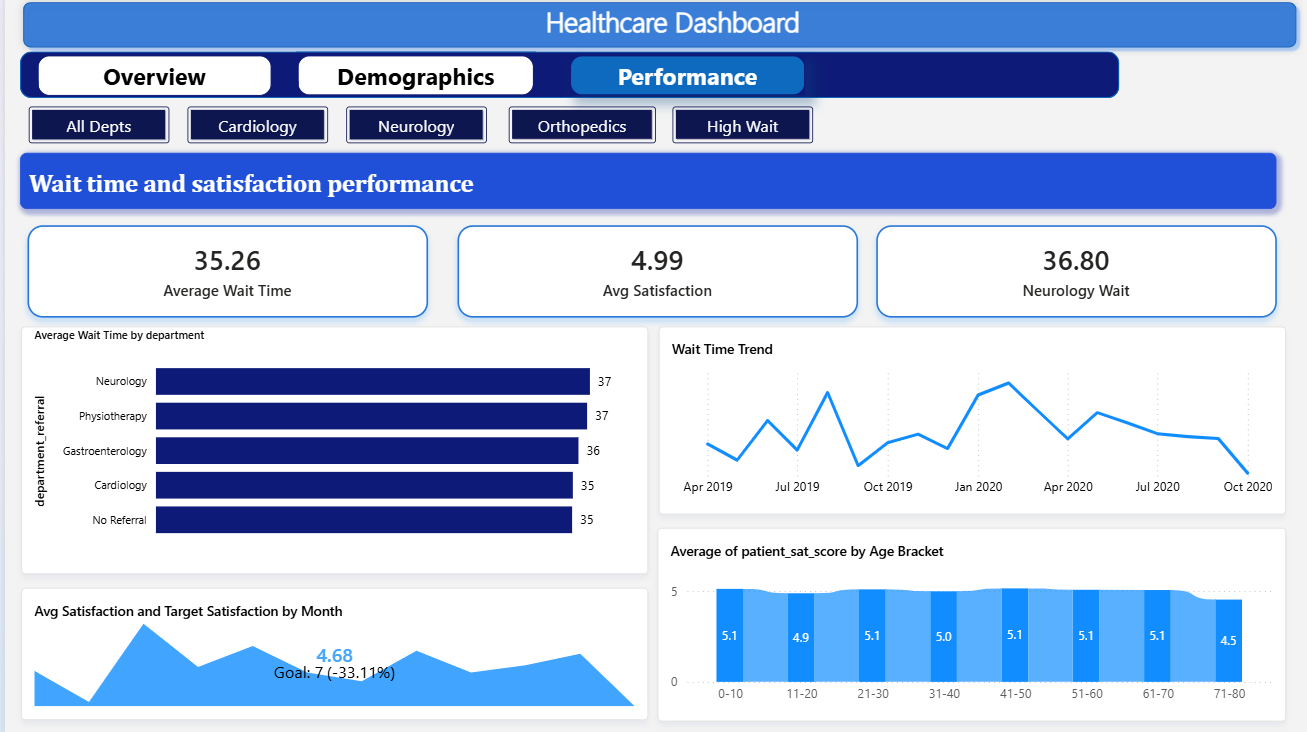

What the dashboard file says about the page in this screenshot:
{"tool":"powerbi","page":{"name":"Page 3 Performance","canvas":[1280,730],"ordinal":2},"visuals":[{"type":"shape","box":[9.7,0,1261.9,60.3],"z":0},{"type":"shape","box":[14.8,56.6,1075.7,45.5],"z":1000},{"type":"actionButton","box":[31.4,60.3,229.2,39.8],"z":2000},{"type":"actionButton","box":[286.8,60.3,231.4,39.4],"z":3000},{"type":"actionButton","box":[552.6,60.3,230.2,39.4],"z":4000},{"type":"textbox","box":[60.3,9.7,1187.1,47.1],"z":5000},{"type":"textbox","box":[14.8,155.1,1229.5,55.4],"z":6000},{"type":"cardVisual","fields":{"Data":["Sheet1.Average Wait Time"]},"box":[22.3,226.8,392.3,90.4],"z":7000},{"type":"cardVisual","fields":{"Data":["Sheet1.Avg Satisfaction"]},"box":[442.4,226.8,392.3,90.4],"z":8000},{"type":"cardVisual","fields":{"Data":["Sheet1.Neurology Wait"]},"box":[852.9,226.8,392.3,90.4],"z":9000},{"type":"barChart","title":"Average Wait Time by department","fields":{"Category":["Sheet1.department_referral"],"Y":["Sheet1.Average Wait Time"]},"box":[15.3,325.6,613.6,242.1],"z":10000},{"type":"lineChart","title":"Wait Time Trend","fields":{"Y":["Sheet1.Average Wait Time"],"Category":["Sheet1.Date.Variation.Date Hierarchy.Year","Sheet1.Date.Variation.Date Hierarchy.Month"]},"box":[640,325.6,613.6,183.7],"z":11000},{"type":"kpi","fields":{"Indicator":["Sheet1.Avg Satisfaction"],"Goal":["Sheet1.Target Satisfaction"],"TrendLine":["Sheet1.Date.Variation.Date Hierarchy.Month"]},"box":[15.3,581.6,613.6,129.4],"z":12000},{"type":"actionButton","box":[22.9,109.8,137.5,36.2],"z":13000},{"type":"actionButton","box":[178.6,109.8,137.5,36.2],"z":14000},{"type":"actionButton","box":[334.2,109.8,137.5,36.2],"z":15000},{"type":"actionButton","box":[493.5,109.5,144,35.7],"z":16000},{"type":"actionButton","box":[653.5,109.5,137.8,35.7],"z":17000},{"type":"ribbonChart","fields":{"Category":["Sheet1.Age Bracket"],"Y":["Avg(Sheet1.patient_sat_score)"]},"box":[638.6,521.7,615,189.2],"z":18000}]}

Visuals, with their boxes in screenshot pixels (x1, y1, x2, y2), scaled from the page's 1280x730 canvas onto the 1307x732 screenshot:
shape: 10,0,1298,60
shape: 15,57,1114,102
actionButton: 32,60,266,100
actionButton: 293,60,529,100
actionButton: 564,60,799,100
textbox: 62,10,1274,57
textbox: 15,156,1271,211
cardVisual - Sheet1.Average Wait Time: 23,227,423,318
cardVisual - Sheet1.Avg Satisfaction: 452,227,852,318
cardVisual - Sheet1.Neurology Wait: 871,227,1271,318
"Average Wait Time by department" barChart: 16,326,642,569
"Wait Time Trend" lineChart: 654,326,1280,511
kpi - Sheet1.Avg Satisfaction x Sheet1.Target Satisfaction: 16,583,642,713
actionButton: 23,110,164,146
actionButton: 182,110,323,146
actionButton: 341,110,482,146
actionButton: 504,110,651,146
actionButton: 667,110,808,146
ribbonChart - Sheet1.Age Bracket x Avg(Sheet1.patient_sat_score): 652,523,1280,713
